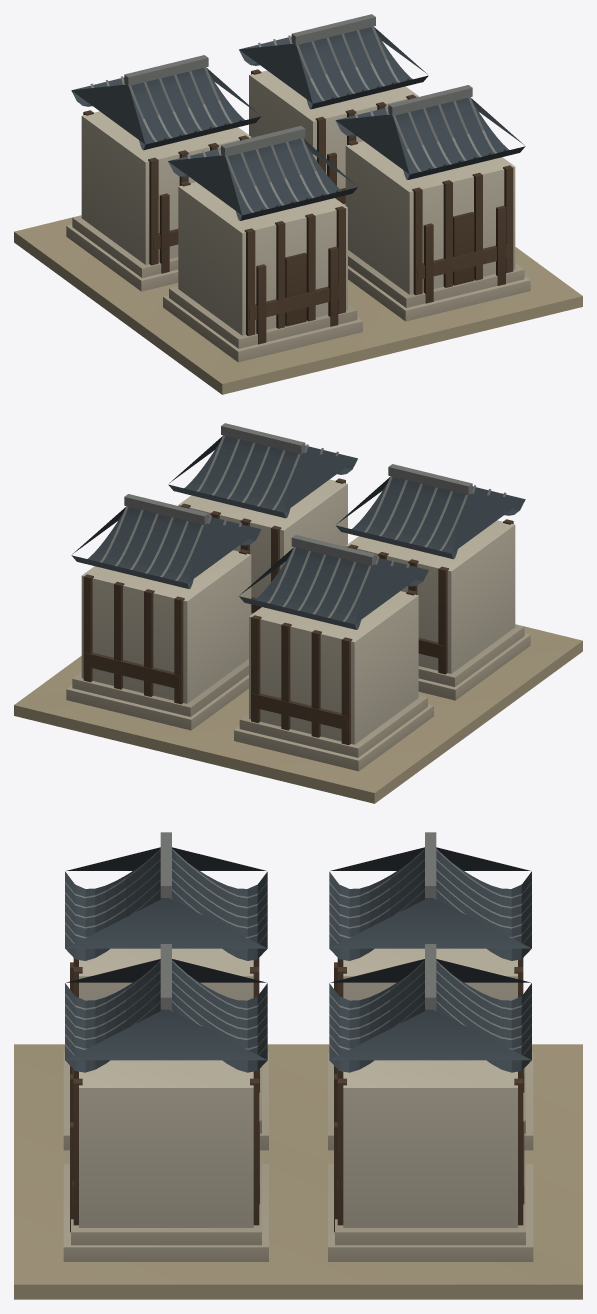
The model's file is granary-3.glb.
The picture shows the model from 3 angles, top to bottom: view 1: azimuth 30°, elevation 25°; view 2: azimuth 150°, elevation 25°; view 3: azimuth 270°, elevation 25°; orthographic projection. The views are drawn at different scales.
Parts seen in each view (by area): view 1: granary 3 1, granary 3 2, granary 3 4, granary 3 3, granary 3 0, granary 3 5; view 2: granary 3 1, granary 3 2, granary 3 4, granary 3 0, granary 3 3, granary 3 5; view 3: granary 3 1, granary 3 2, granary 3 4, granary 3 0, granary 3 5, granary 3 3.
Boxes of the visible parts, <box> form: granary 3 1: <box>81,70,515,335</box>; granary 3 2: <box>71,27,525,220</box>; granary 3 4: <box>14,217,582,394</box>; granary 3 3: <box>83,69,513,344</box>; granary 3 0: <box>66,215,530,362</box>; granary 3 5: <box>90,14,506,212</box>; granary 3 1: <box>81,479,515,744</box>; granary 3 2: <box>71,436,525,629</box>; granary 3 4: <box>14,626,582,803</box>; granary 3 0: <box>66,624,530,771</box>; granary 3 3: <box>83,478,513,745</box>; granary 3 5: <box>90,423,506,621</box>; granary 3 1: <box>79,948,517,1227</box>; granary 3 2: <box>65,847,531,1072</box>; granary 3 4: <box>14,1044,582,1299</box>; granary 3 0: <box>63,1052,533,1261</box>; granary 3 5: <box>65,832,531,1055</box>; granary 3 3: <box>70,958,524,1232</box>.
Size of the model in its own units: 2.8 by 1.43 by 2.8.
